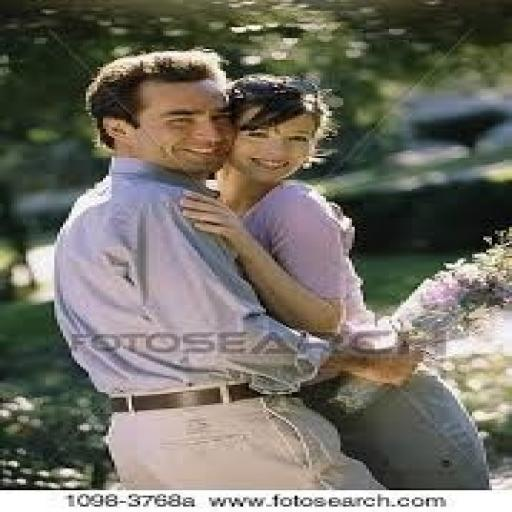hugging: (48, 47, 494, 490)
